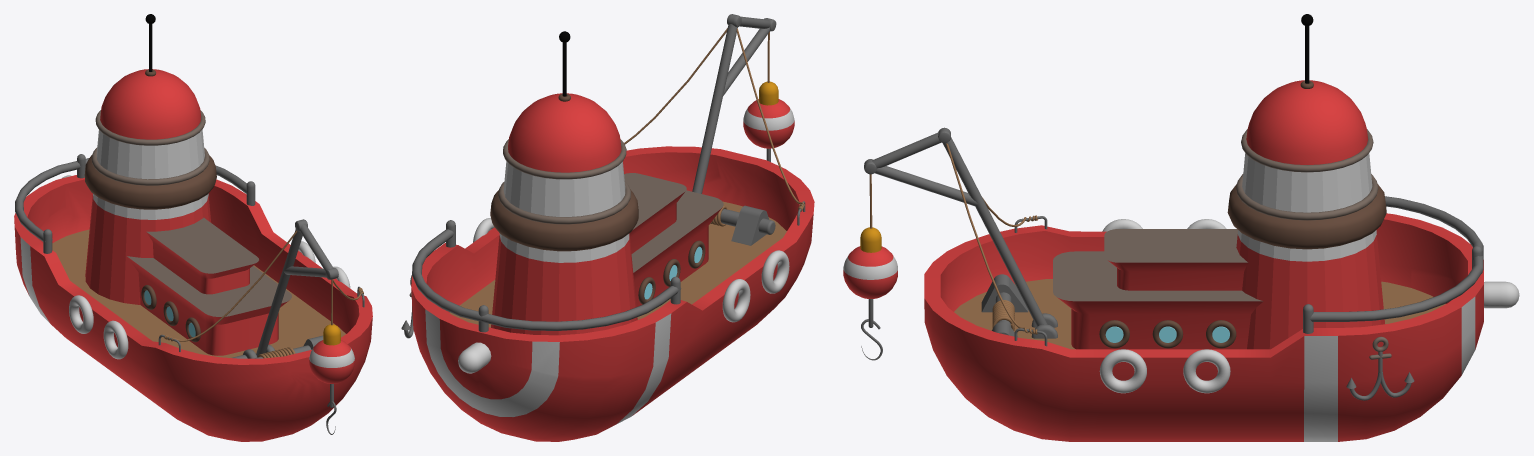
The model's file is Boat.fbx.
3 renders of one model, left to right at view 1: azimuth 30°, elevation 25°; view 2: azimuth 150°, elevation 25°; view 3: azimuth 270°, elevation 25°, orthographic. The views are drawn at different scales.
Parts seen in each view (by area): view 1: Капсула_2_4, Труба, Куб, Сфера_2, Выдавливание, Куб_1, Труба_1, Сфера, Sweep, Капсула_1_3, Тор_6, Тор_1 (+5 smaller); view 2: Капсула_2_4, Труба, Сфера_2, Куб, Труба_1, Выдавливание, Sweep, Куб_1, Сфера, Капсула_1_3, Тор_6, Тор_1 (+8 smaller); view 3: Капсула_2_4, Труба, Куб, Куб_1, Сфера_2, Труба_1, Выдавливание, Sweep, Сфера, Капсула_1_3, Тор_2, Тор_1 (+7 smaller).
Boxes of the visible parts, x1,y1,x2,y2 form: Капсула_2_4: [14, 175, 372, 441]; Труба: [85, 129, 211, 304]; Куб: [126, 256, 291, 355]; Сфера_2: [100, 69, 201, 139]; Выдавливание: [52, 229, 345, 357]; Куб_1: [146, 217, 258, 294]; Труба_1: [84, 155, 216, 209]; Сфера: [309, 340, 354, 383]; Sweep: [15, 158, 246, 242]; Капсула_1_3: [256, 229, 302, 356]; Тор_6: [91, 147, 209, 185]; Тор_1: [69, 241, 315, 333]; Капсула_2_4: [411, 146, 814, 441]; Труба: [491, 161, 637, 335]; Сфера_2: [508, 93, 621, 172]; Куб: [631, 190, 723, 306]; Труба_1: [490, 189, 638, 251]; Выдавливание: [449, 201, 786, 327]; Sweep: [412, 229, 681, 330]; Куб_1: [624, 173, 686, 253]; Сфера: [743, 99, 794, 148]; Капсула_1_3: [692, 24, 737, 193]; Тор_6: [498, 181, 630, 224]; Тор_1: [473, 218, 750, 322]; Капсула_2_4: [924, 213, 1483, 441]; Труба: [1236, 153, 1384, 349]; Куб: [1053, 251, 1263, 349]; Куб_1: [1104, 229, 1248, 290]; Сфера_2: [1246, 80, 1368, 164]; Труба_1: [1227, 184, 1386, 249]; Выдавливание: [954, 279, 1445, 349]; Sweep: [1309, 196, 1483, 321]; Сфера: [843, 246, 897, 298]; Капсула_1_3: [942, 137, 1047, 326]; Тор_2: [1099, 219, 1146, 393]; Тор_1: [1183, 219, 1230, 393].
Size of the model in its own units: 121 by 171 by 254.
